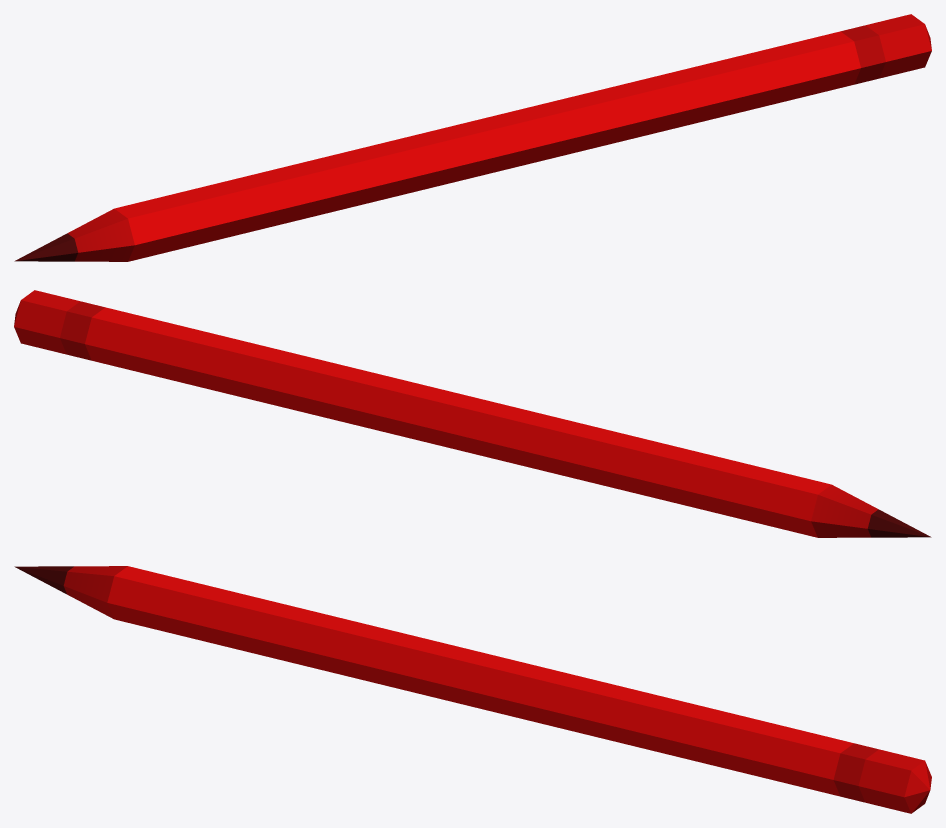
Rendered from Pencil.001.glb.
The picture shows the model from 3 angles, top to bottom: view 1: azimuth 30°, elevation 25°; view 2: azimuth 150°, elevation 25°; view 3: azimuth 330°, elevation 25°; orthographic projection.
Visible parts, largest first — view 1: Pencil.001; view 2: Pencil.001; view 3: Pencil.001.
Boxes of the visible parts, x1,y1,x2,y2 form: Pencil.001: [14, 14, 931, 261]; Pencil.001: [14, 290, 931, 537]; Pencil.001: [14, 566, 931, 813].
Size of the model in its own units: 1.29 by 0.0583 by 0.0673.
